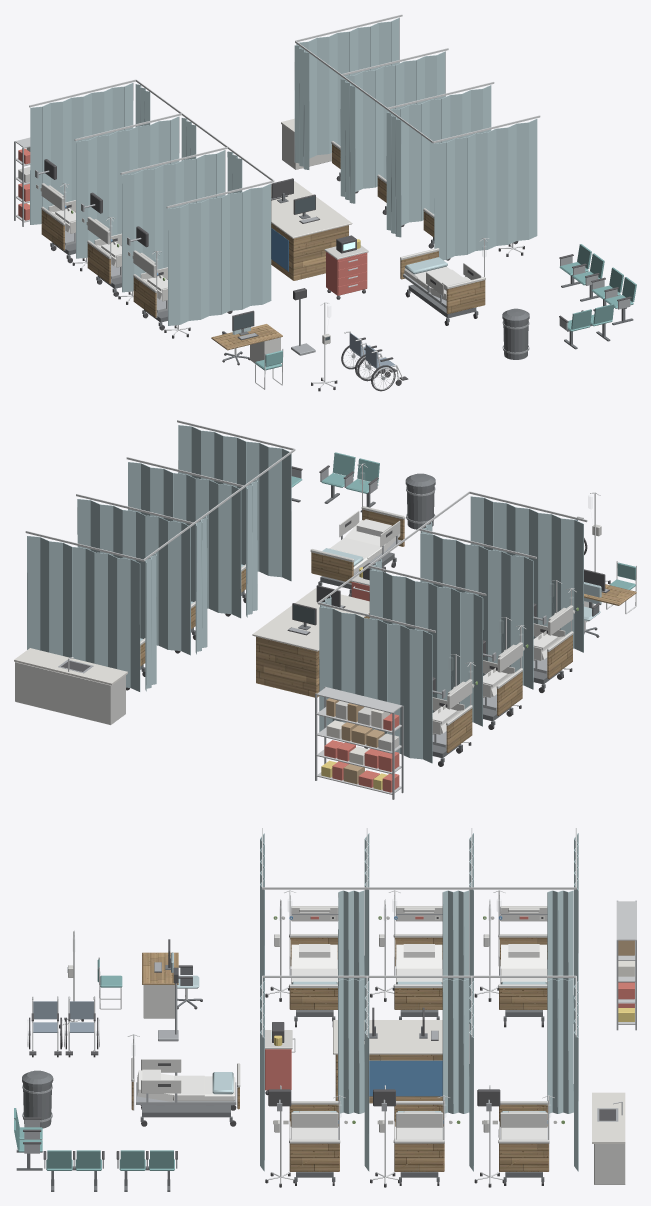
The picture shows the model from 3 angles, top to bottom: view 1: azimuth 30°, elevation 25°; view 2: azimuth 150°, elevation 25°; view 3: azimuth 270°, elevation 25°; orthographic projection. The views are drawn at different scales.
Parts seen in each view (by area): view 1: er_curtain, er_laminate, er_cart_w, er_alu, er_steel_d, er_vinyl_t, er_steel, er_dark, er_counter, er_chrome, er_bed_w, er_paint_r (+4 smaller); view 2: er_curtain, er_cart_w, er_laminate, er_counter, er_alu, er_steel_d, er_bed_w, er_steel, er_food_r, er_metal, er_vinyl_t, er_dark (+3 smaller); view 3: er_curtain, er_laminate, er_cart_w, er_bed_w, er_steel_d, er_counter, er_chrome, er_steel, er_vinyl_t, er_dark, er_alu, er_blue (+4 smaller).
Part boxes in pixels (x1=…): er_curtain: x1=30, y1=17, x2=537, y2=325; er_laminate: x1=41, y1=144, x2=485, y2=350; er_cart_w: x1=18, y1=125, x2=485, y2=369; er_alu: x1=29, y1=14, x2=540, y2=208; er_steel_d: x1=50, y1=172, x2=633, y2=362; er_vinyl_t: x1=255, y1=244, x2=636, y2=370; er_steel: x1=14, y1=141, x2=630, y2=380; er_dark: x1=44, y1=159, x2=631, y2=380; er_counter: x1=271, y1=118, x2=352, y2=238; er_chrome: x1=60, y1=183, x2=523, y2=389; er_bed_w: x1=50, y1=208, x2=469, y2=300; er_paint_r: x1=326, y1=252, x2=367, y2=295; er_curtain: x1=27, y1=425, x2=583, y2=763; er_cart_w: x1=15, y1=506, x2=601, y2=751; er_laminate: x1=140, y1=509, x2=636, y2=752; er_counter: x1=14, y1=588, x2=369, y2=685; er_alu: x1=25, y1=420, x2=587, y2=632; er_steel_d: x1=140, y1=473, x2=599, y2=762; er_bed_w: x1=329, y1=519, x2=563, y2=734; er_steel: x1=58, y1=468, x2=608, y2=799; er_food_r: x1=324, y1=713, x2=399, y2=792; er_metal: x1=316, y1=687, x2=401, y2=794; er_vinyl_t: x1=291, y1=452, x2=635, y2=589; er_dark: x1=61, y1=465, x2=609, y2=707; er_curtain: x1=212, y1=833, x2=578, y2=1171; er_laminate: x1=131, y1=937, x2=548, y2=1171; er_cart_w: x1=68, y1=906, x2=625, y2=1184; er_bed_w: x1=137, y1=944, x2=547, y2=1139; er_steel_d: x1=16, y1=958, x2=544, y2=1191; er_counter: x1=333, y1=1020, x2=625, y2=1143; er_chrome: x1=27, y1=890, x2=622, y2=1183; er_steel: x1=22, y1=900, x2=636, y2=1168; er_vinyl_t: x1=14, y1=959, x2=174, y2=1170; er_dark: x1=23, y1=917, x2=615, y2=1159; er_alu: x1=262, y1=828, x2=576, y2=1037; er_blue: x1=289, y1=916, x2=547, y2=1123.
Size of the model in its own units: 9.52 by 3.3 by 11.91.
29 materials, 1 textured.
